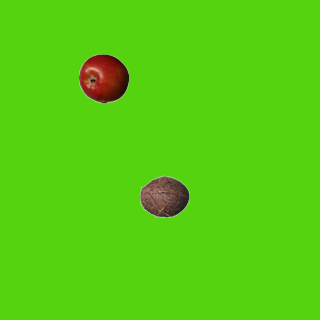Apple Braeburn: (78, 53, 128, 103)
Cocos: (139, 171, 189, 221)
